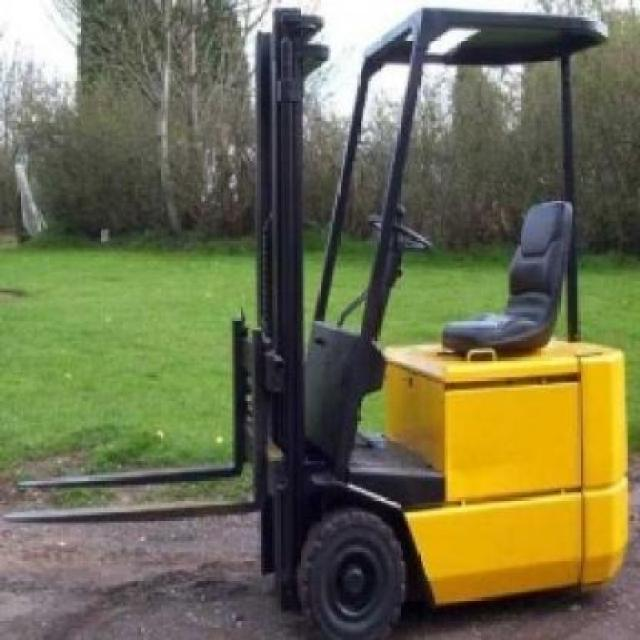forklift: (229, 4, 627, 640)
